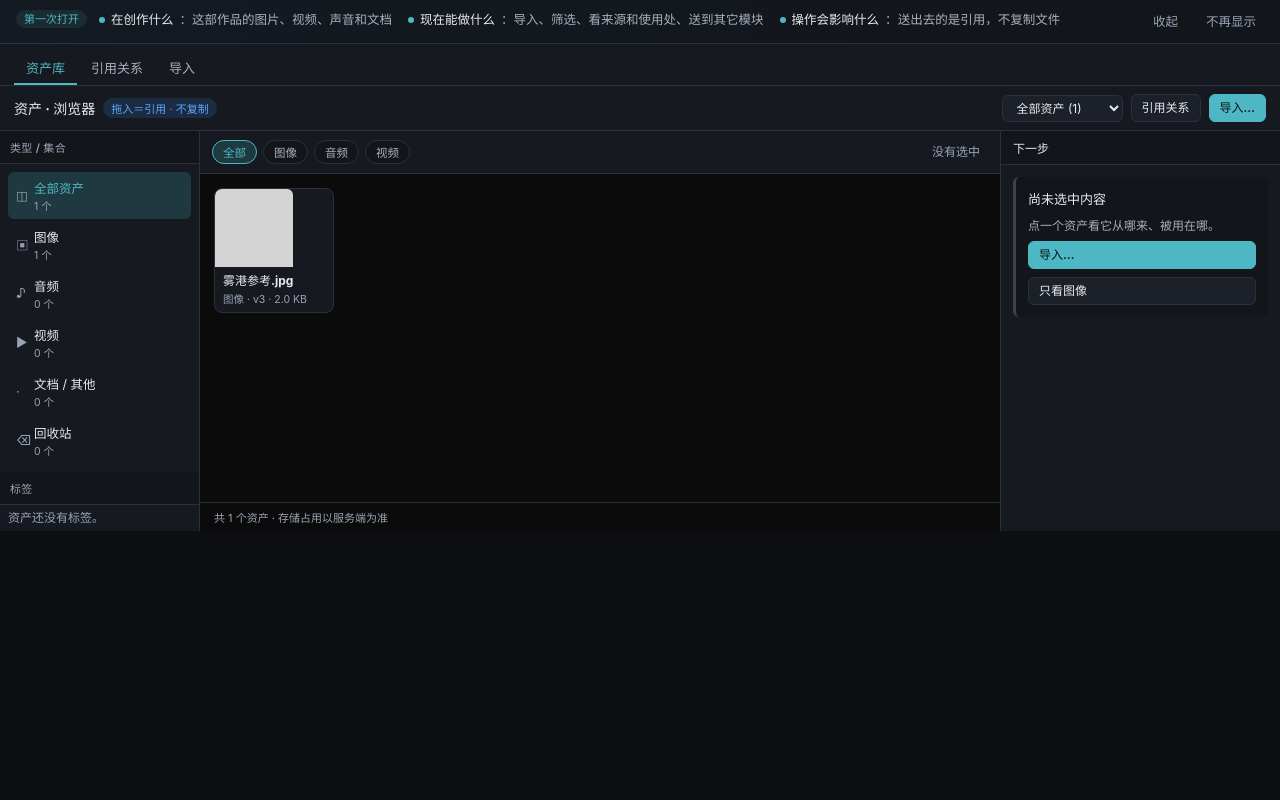
Test: AssetsRebuild › select: lineage facts in Chinese, used-in from references, no ids/hashes on screen
The image size is (1280, 800).
Click the text "雾港参考.jpg" at [258, 281], box [223,273,293,288]
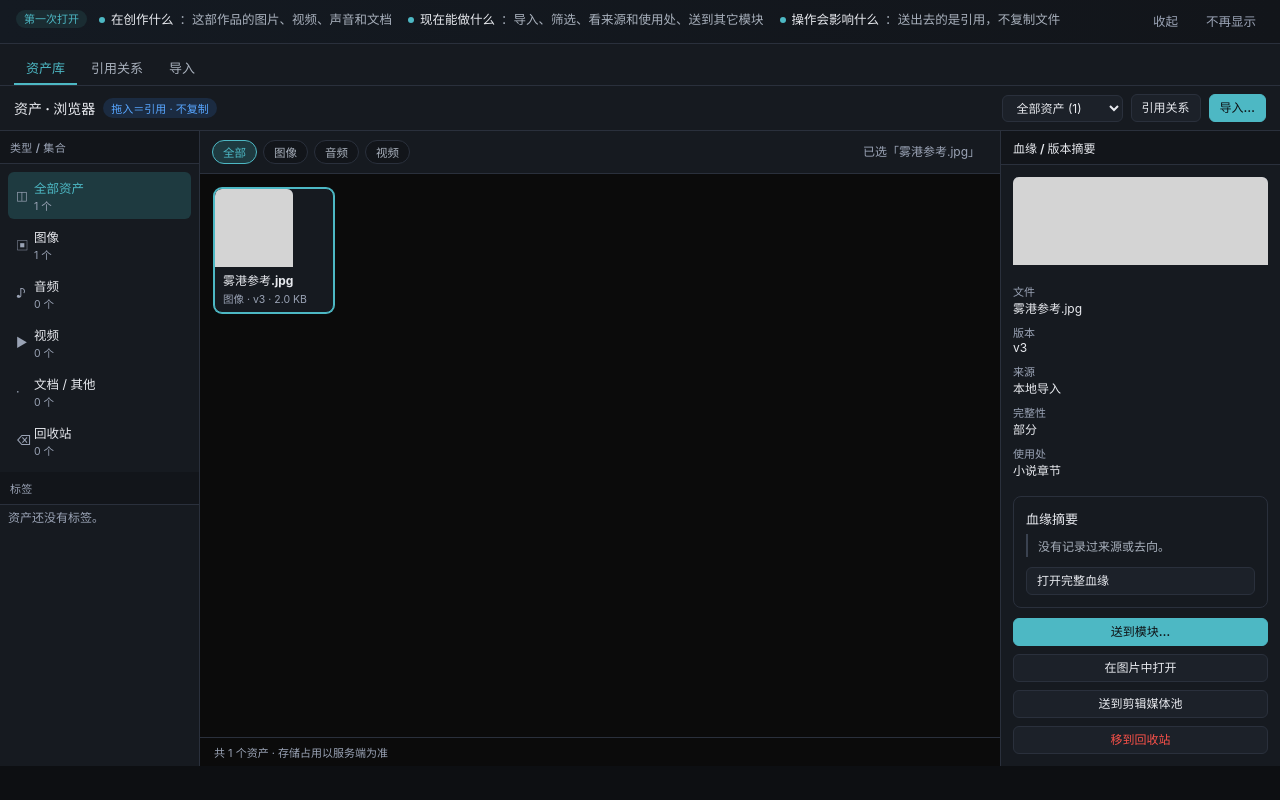
Result: the text "部分" is shown at [1013,422,1037,437]
Result: the text "本地导入" is shown at [1013,381,1061,396]
Result: the text "小说章节" is shown at [1013,463,1061,478]
